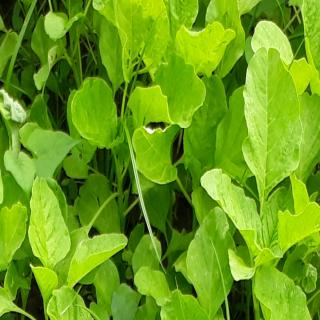virus_keriting: (295, 244, 320, 299)
